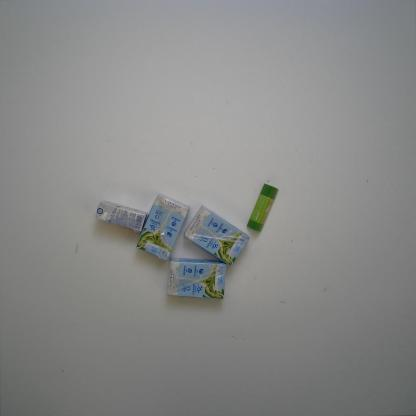Milk: (183, 205, 251, 266), (136, 193, 190, 261), (167, 257, 226, 299), (96, 201, 148, 232)
Stationery: (246, 184, 279, 232)
